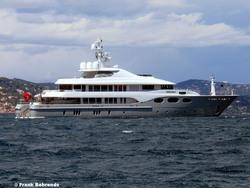yacht: (21, 41, 239, 120)
